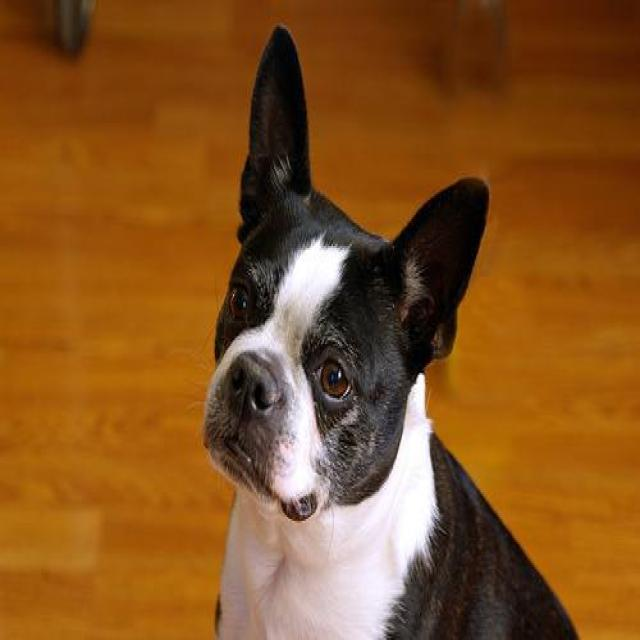toy_terrier: (202, 23, 580, 638)
